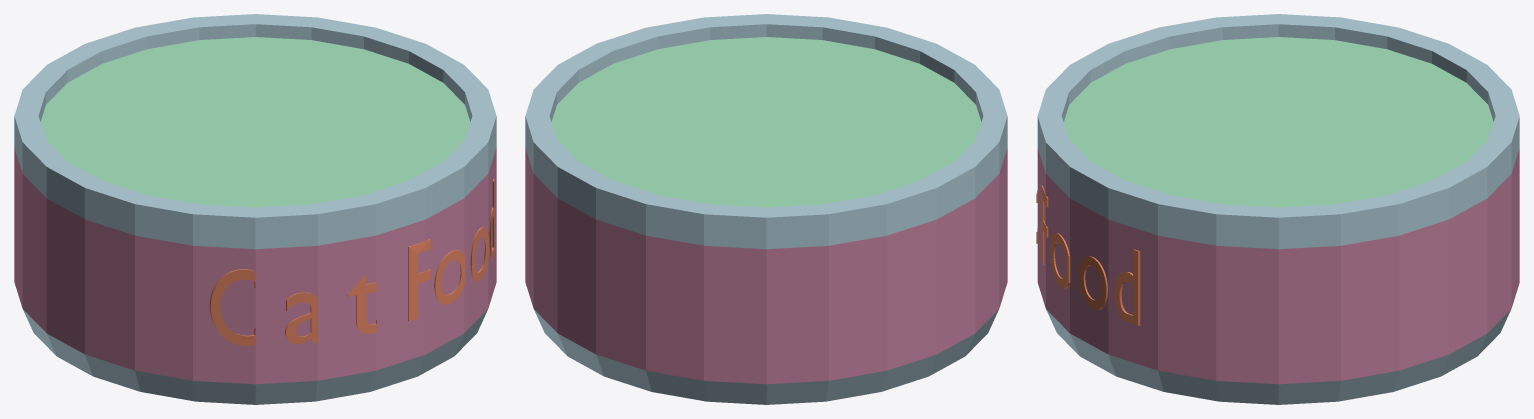
Rendered from CatFood.glb.
The picture shows the model from 3 angles, left to right: view 1: azimuth 30°, elevation 25°; view 2: azimuth 150°, elevation 25°; view 3: azimuth 270°, elevation 25°; orthographic projection.
Visible parts, largest first — view 1: Cylinder, Cylinder.001, Text; view 2: Cylinder, Cylinder.001; view 3: Cylinder, Cylinder.001, Text.
Boxes of the visible parts, x1,y1,x2,y2 form: Cylinder: (14, 14, 496, 404); Cylinder.001: (40, 37, 470, 207); Text: (209, 178, 494, 345); Cylinder: (525, 14, 1007, 404); Cylinder.001: (551, 37, 981, 207); Cylinder: (1037, 14, 1519, 404); Cylinder.001: (1063, 37, 1493, 207); Text: (1036, 185, 1140, 325).
Bounding box in the file's own units: 3.41 × 1.5 × 3.42.
